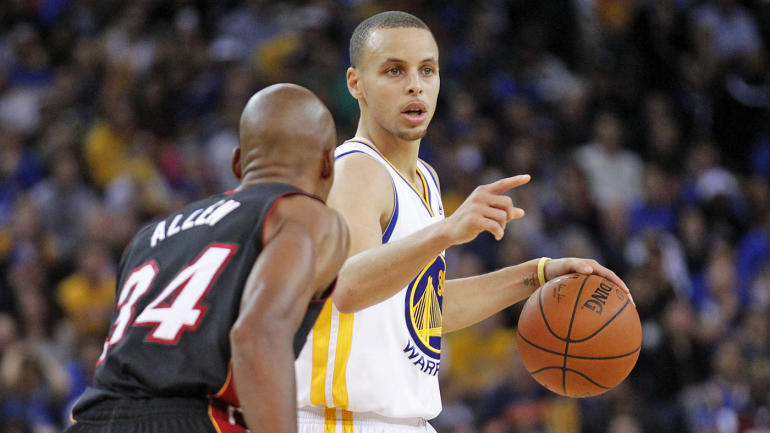Basketball: (514, 271, 645, 400)
